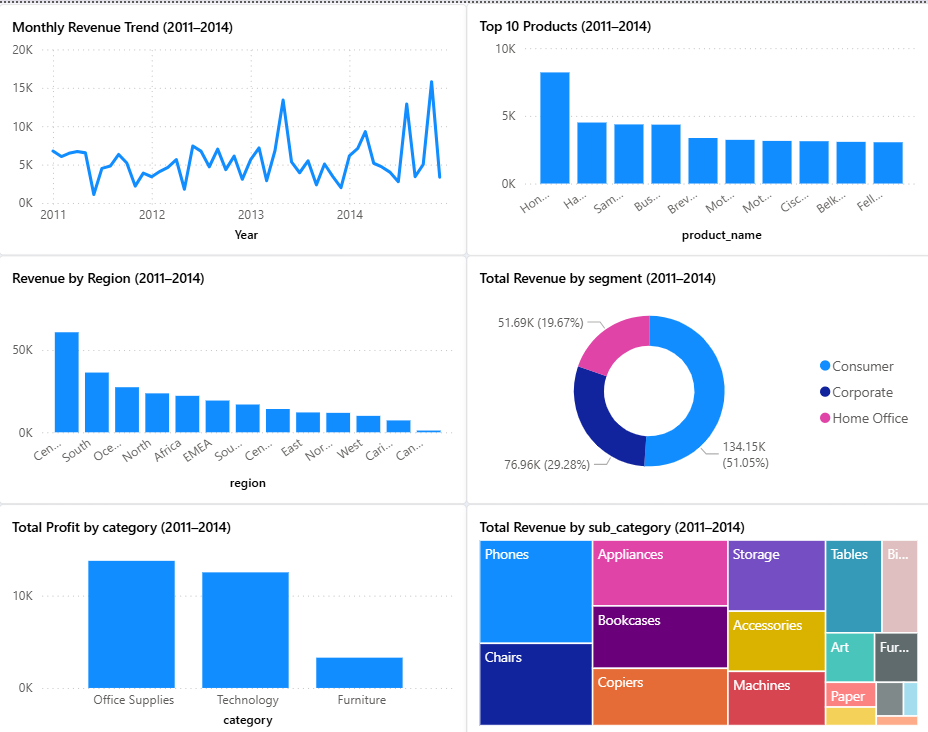

Layout of this report page (visuals, bound fields, positions):
{"tool":"powerbi","page":{"name":"charts","canvas":[1280,720],"ordinal":1},"visuals":[{"type":"lineChart","title":"Monthly Revenue Trend (2011–2014)","fields":{"Y":["SuperStoreOrdersfi_cleaned.Total Revenue"],"Category":["SuperStoreOrdersfi_cleaned.order_date.Variation.Date Hierarchy.Year","SuperStoreOrdersfi_cleaned.order_date.Variation.Date Hierarchy.Month"]},"box":[0,1.2,457.3,245.8],"z":0},{"type":"clusteredColumnChart","title":"Revenue by Region (2011–2014)","fields":{"Category":["SuperStoreOrdersfi_cleaned.region"],"Y":["SuperStoreOrdersfi_cleaned.Total Revenue"]},"box":[0,247,457.3,243.3],"z":1000},{"type":"clusteredColumnChart","title":"Total Profit by category (2011–2014)","fields":{"Y":["SuperStoreOrdersfi_cleaned.Total Profit"],"Category":["SuperStoreOrdersfi_cleaned.category"]},"box":[0,490.4,457.3,231.1],"z":2000},{"type":"clusteredColumnChart","title":"Top 10 Products (2011–2014)","fields":{"Category":["SuperStoreOrdersfi_cleaned.product_name"],"Y":["SuperStoreOrdersfi_cleaned.Total Revenue"]},"box":[457.3,0,454.9,247],"z":3000},{"type":"donutChart","title":"Total Revenue by segment (2011–2014)","fields":{"Y":["SuperStoreOrdersfi_cleaned.Total Revenue"],"Category":["SuperStoreOrdersfi_cleaned.segment"]},"box":[457.3,247,454.9,243.3],"z":4000},{"type":"treemap","title":"Total Revenue by sub_category (2011–2014)","fields":{"Group":["SuperStoreOrdersfi_cleaned.sub_category"],"Values":["SuperStoreOrdersfi_cleaned.Total Revenue"]},"box":[457.3,490.4,454.9,229.9],"z":5000},{"type":"slicer","fields":{"Values":["SuperStoreOrdersfi_cleaned.year"]},"box":[1088.3,336.3,179.8,384],"z":6000},{"type":"slicer","fields":{"Values":["SuperStoreOrdersfi_cleaned.region"]},"box":[912.2,336.3,176.1,384],"z":7000},{"type":"slicer","fields":{"Values":["SuperStoreOrdersfi_cleaned.segment"]},"box":[1088.3,4.9,179.8,331.4],"z":8000},{"type":"slicer","fields":{"Values":["SuperStoreOrdersfi_cleaned.category"]},"box":[912.2,4.9,176.1,331.4],"z":9000},{"type":"actionButton","box":[1023.5,226.2,100.3,40.4],"z":10000}]}

Visuals, with their boxes on the page's 1280x720 design canvas (x1, y1, x2, y2). These are canvas units, not pixel positions in the 928x732 screenshot, which may show the page scaled, cropped or inside an application window:
"Monthly Revenue Trend (2011–2014)" lineChart: x1=0, y1=1, x2=457, y2=247
"Revenue by Region (2011–2014)" clusteredColumnChart: x1=0, y1=247, x2=457, y2=490
"Total Profit by category (2011–2014)" clusteredColumnChart: x1=0, y1=490, x2=457, y2=722
"Top 10 Products (2011–2014)" clusteredColumnChart: x1=457, y1=0, x2=912, y2=247
"Total Revenue by segment (2011–2014)" donutChart: x1=457, y1=247, x2=912, y2=490
"Total Revenue by sub_category (2011–2014)" treemap: x1=457, y1=490, x2=912, y2=720
slicer - SuperStoreOrdersfi_cleaned.year: x1=1088, y1=336, x2=1268, y2=720
slicer - SuperStoreOrdersfi_cleaned.region: x1=912, y1=336, x2=1088, y2=720
slicer - SuperStoreOrdersfi_cleaned.segment: x1=1088, y1=5, x2=1268, y2=336
slicer - SuperStoreOrdersfi_cleaned.category: x1=912, y1=5, x2=1088, y2=336
actionButton: x1=1024, y1=226, x2=1124, y2=267
